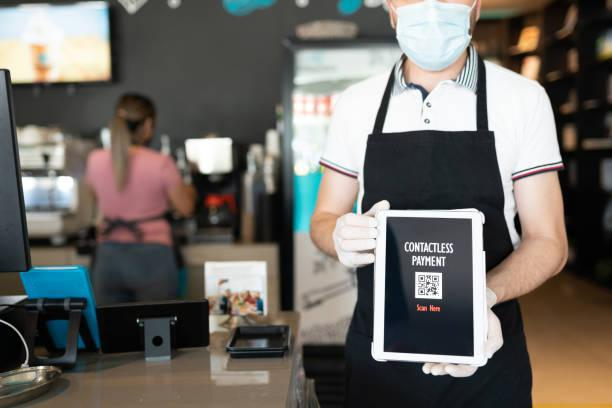Finder pattern: (417, 271, 426, 284), (431, 274, 441, 285), (417, 288, 428, 297)
